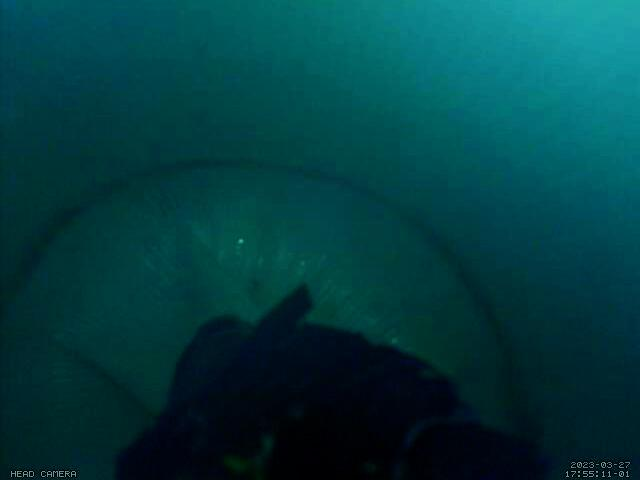head: (0, 159, 545, 451)
